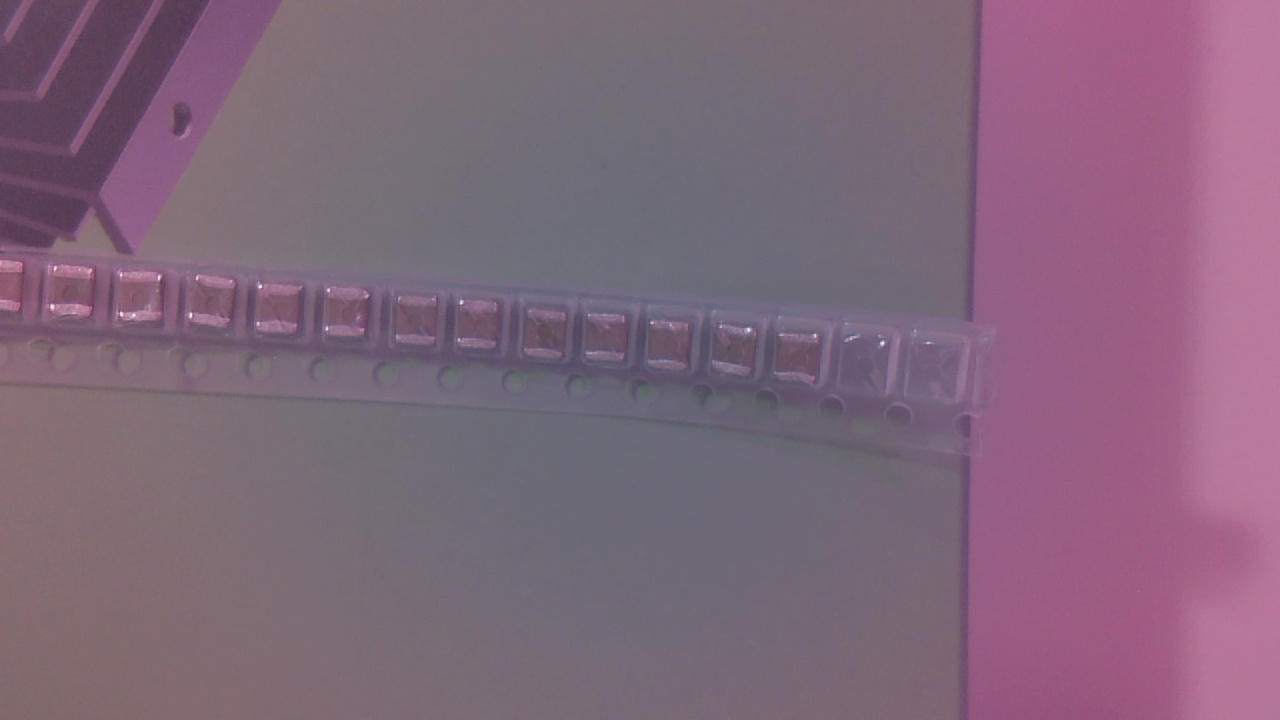Condensator: (716, 324, 764, 384), (50, 268, 102, 323), (119, 276, 168, 332), (650, 319, 698, 375), (192, 280, 240, 336), (528, 307, 574, 365), (587, 315, 635, 370), (777, 337, 825, 390), (261, 287, 309, 340), (330, 286, 373, 345), (398, 295, 440, 353), (461, 303, 504, 359)
